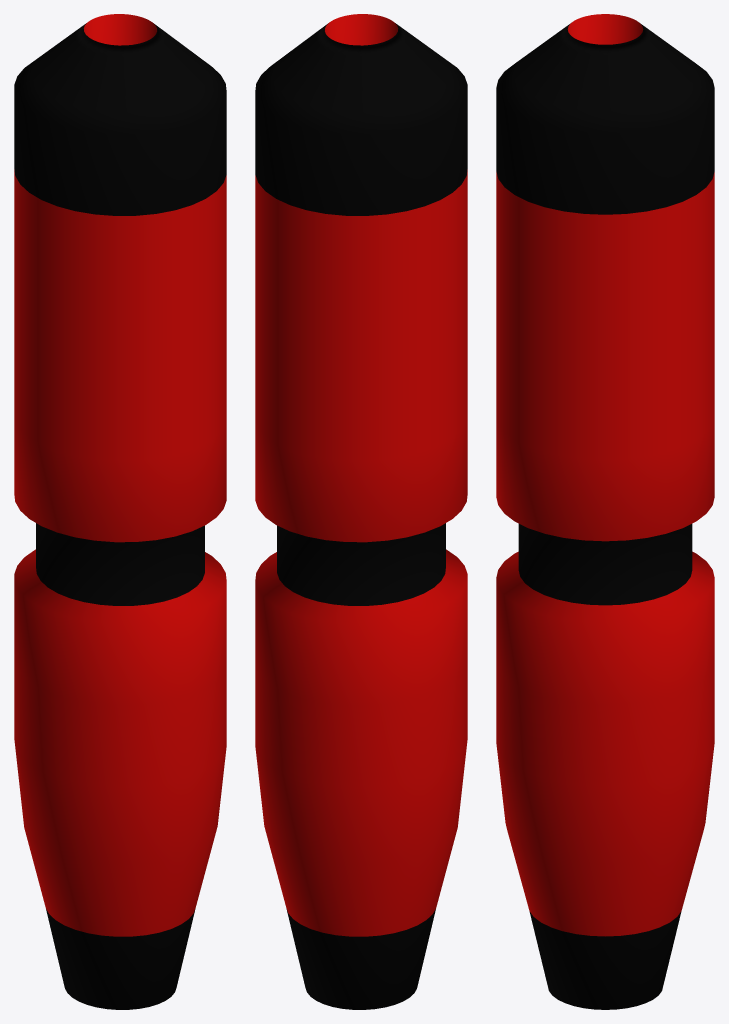
File: point.fbx
3 renders of one model, left to right at view 1: azimuth 30°, elevation 25°; view 2: azimuth 150°, elevation 25°; view 3: azimuth 270°, elevation 25°, orthographic.
Parts seen in each view (by area): view 1: Cylinder; view 2: Cylinder; view 3: Cylinder.
Part boxes in pixels (left/top/right/bottom): Cylinder: left=14, top=14, right=226, bottom=1009; Cylinder: left=255, top=14, right=467, bottom=1009; Cylinder: left=496, top=14, right=714, bottom=1009.
Size of the model in its own units: 8.68 by 43.39 by 8.98.
